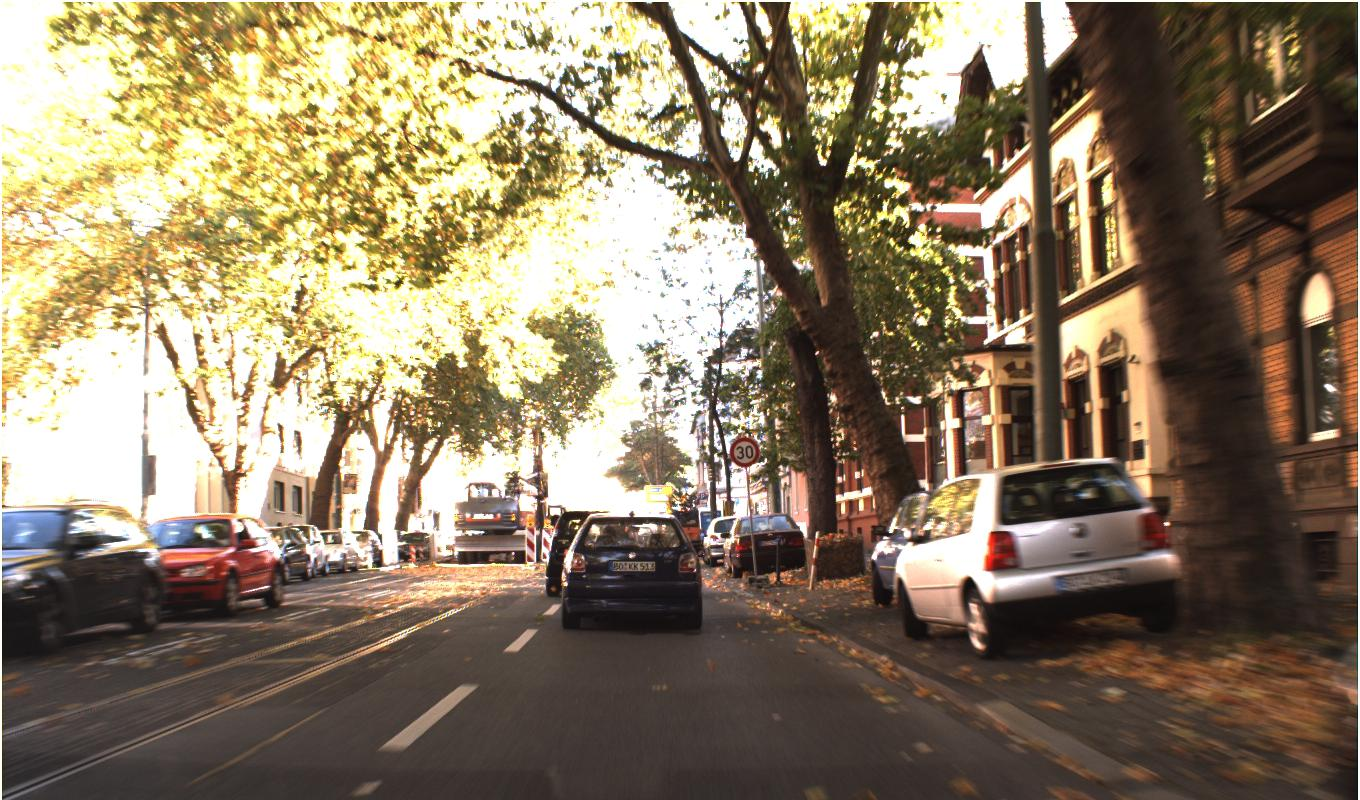prohibitory: (729, 436, 760, 467)
